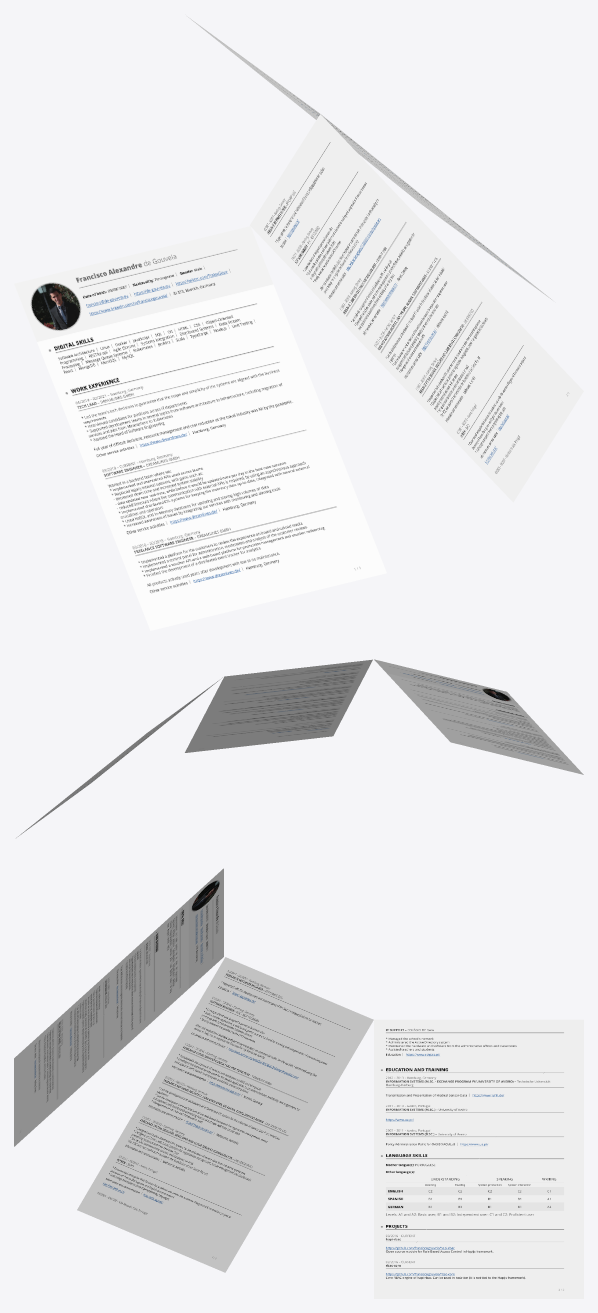
3 renders of one model, top to bottom at view 1: azimuth 30°, elevation 25°; view 2: azimuth 150°, elevation 25°; view 3: azimuth 270°, elevation 25°, orthographic. The views are drawn at different scales.
Visible parts, largest first — view 1: cv-1, cv-2, cv-3; view 2: cv-2, cv-1, cv-3; view 3: cv-3, cv-2, cv-1.
Part boxes in pixels (x1,y1,x2,y2): cv-1: (14,226,386,630); cv-2: (250,114,583,502); cv-3: (187,16,552,300); cv-2: (185,659,372,752); cv-1: (374,659,583,774); cv-3: (16,677,222,837); cv-3: (374,1019,583,1298); cv-2: (77,957,373,1272); cv-1: (14,868,223,1146).
Bounding box in the file's own units: 0.9578 × 0.3537 × 0.9595.
3 materials, 3 textured.
